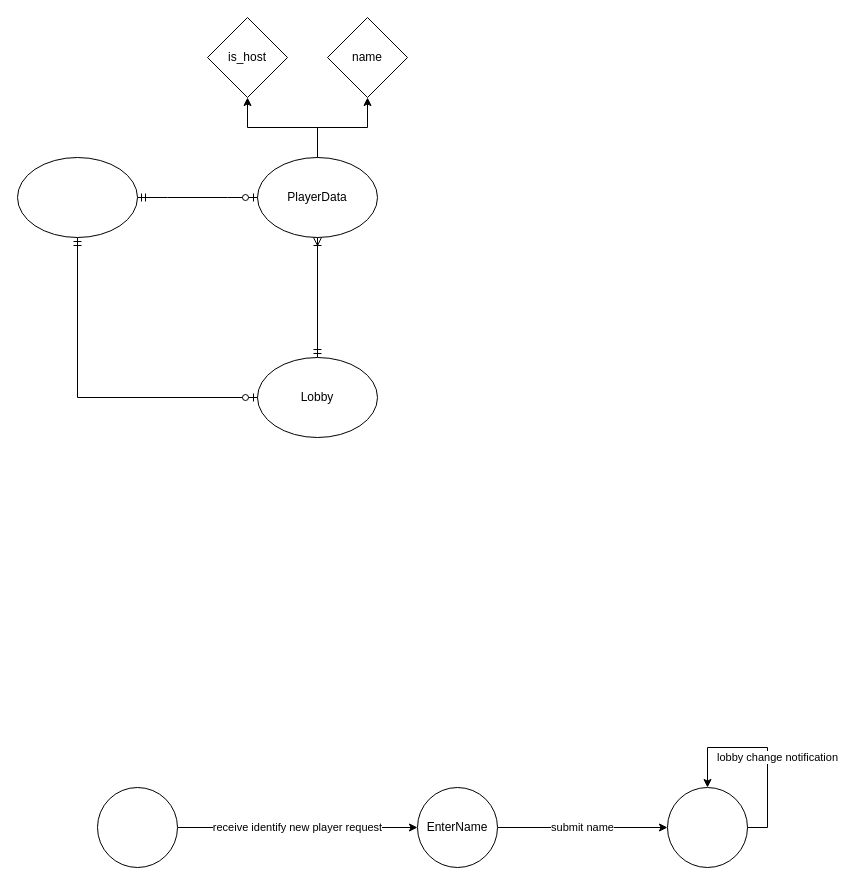
Image size: 855x885. Some labels were removed from this diagram. The centre of each missing label's shape, as x and y in pixels:
"PendingStart" goes at (707,827).
"Session" goes at (77,197).
"SynchLobbyState" goes at (137,827).
